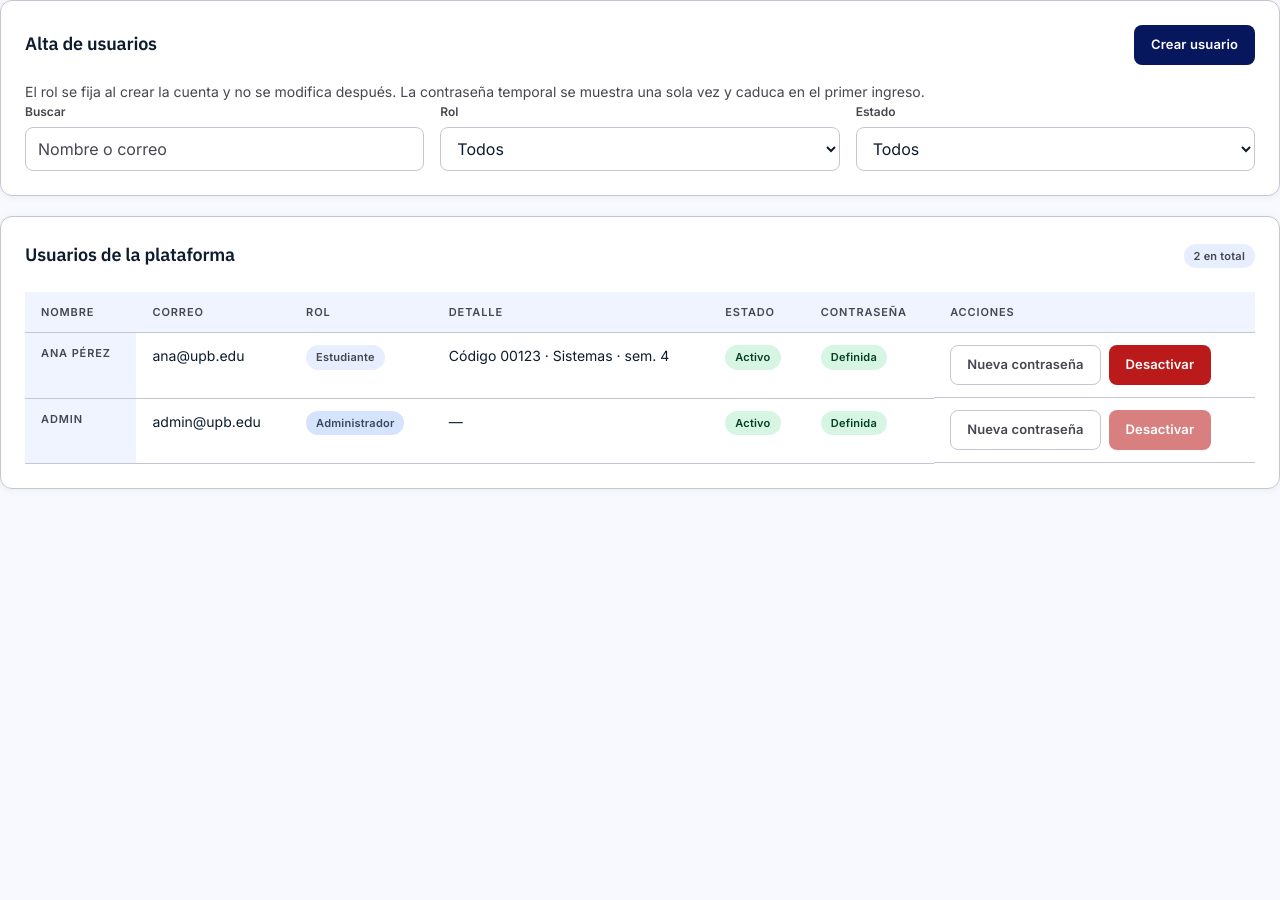
Test case: Acciones sobre la lista › pide confirmación antes de resetear y muestra la temporal en la fila sin desmontar la tabla
Expected: the column heading "Ana Pérez" is shown, left=25, top=333, right=136, bottom=398
What coordinates should you click on to do the following:
click the button "Nueva contraseña" in the row of "Ana Pérez"
I would click on:
 (1025, 365)
Its box is left=950, top=345, right=1101, bottom=385.
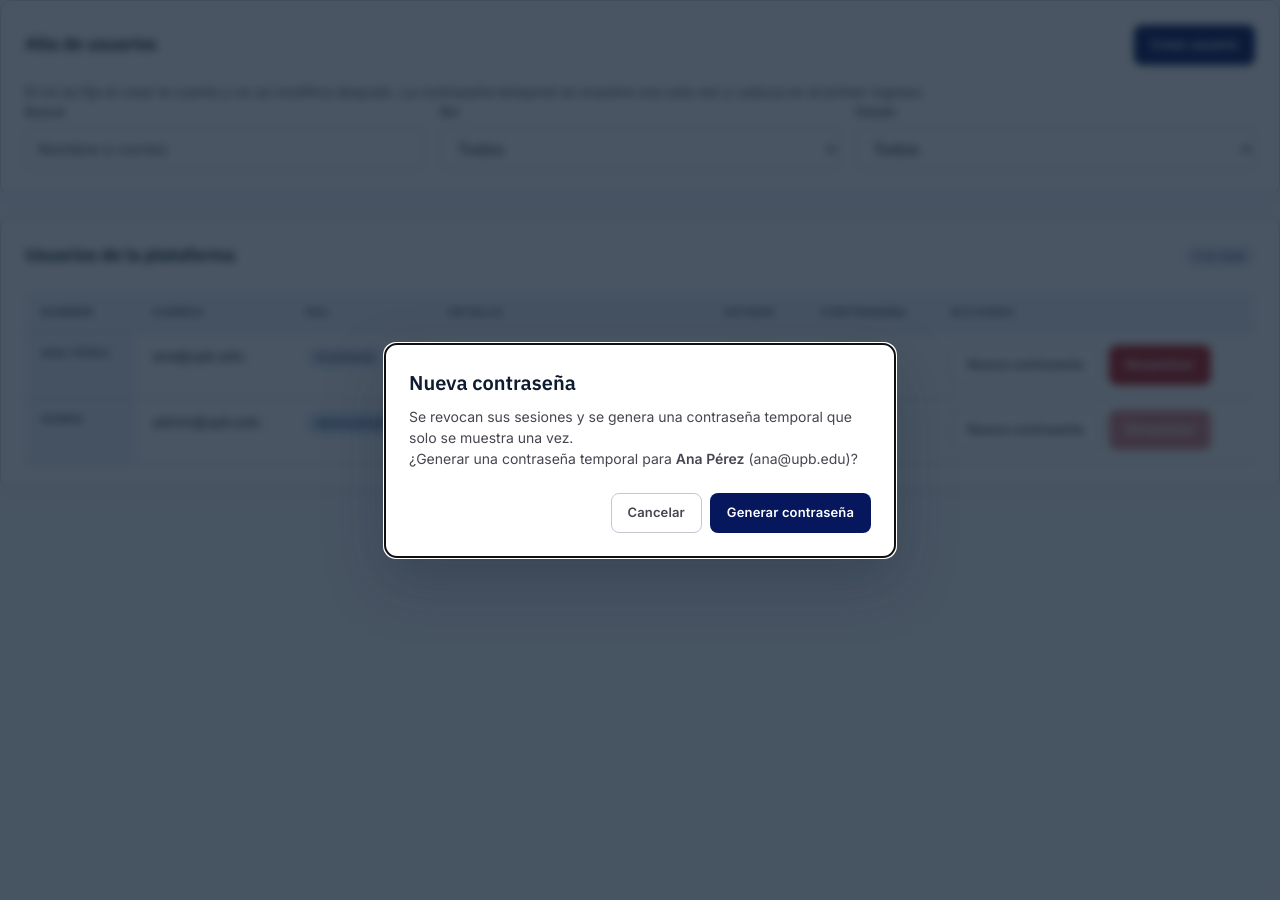
What coordinates should you click on to do the following:
click the button "Generar contraseña"
I would click on:
 (790, 512)
Its box is left=710, top=492, right=871, bottom=532.
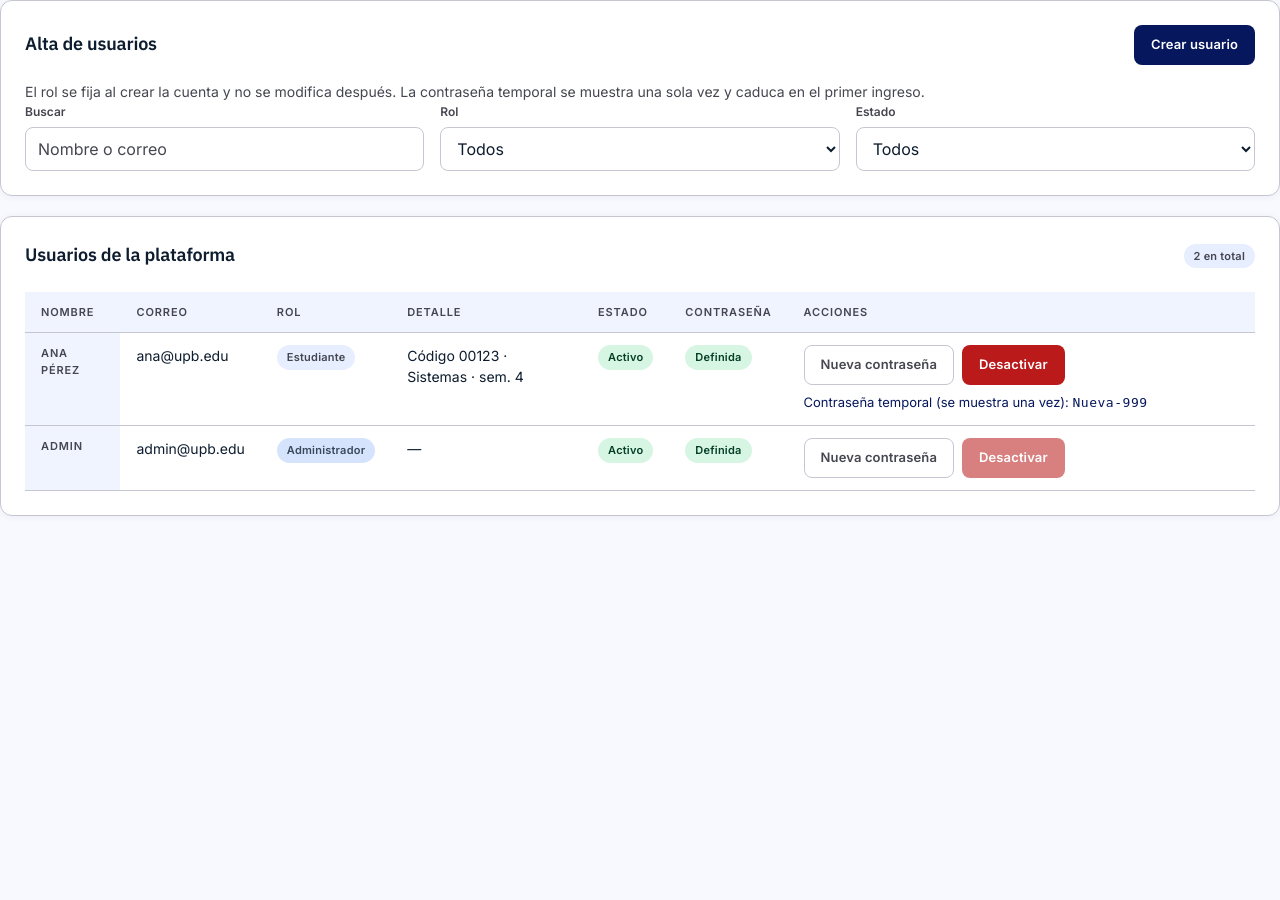
Now the text "Nueva-999" is shown, box left=1072, top=395, right=1148, bottom=410
